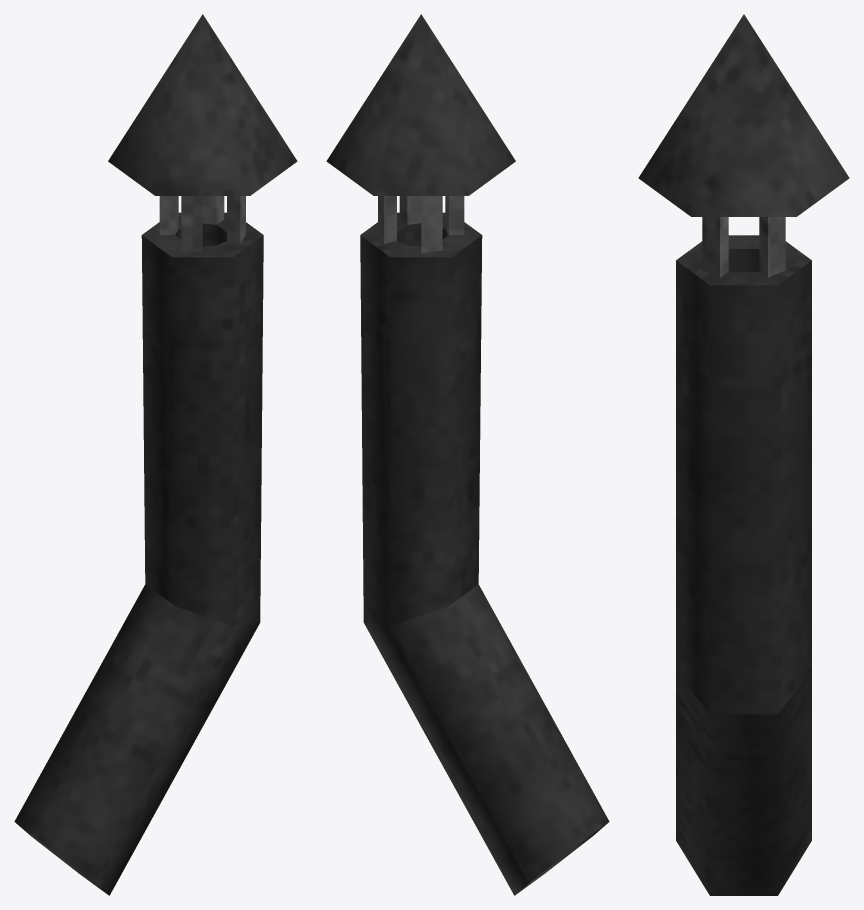
File: MS_Chimney_2.fbx
The picture shows the model from 3 angles, left to right: view 1: azimuth 30°, elevation 25°; view 2: azimuth 150°, elevation 25°; view 3: azimuth 270°, elevation 25°; orthographic projection. The views are drawn at different scales.
Parts seen in each view (by area): view 1: MSH_Chimney_02; view 2: MSH_Chimney_02; view 3: MSH_Chimney_02.
Part boxes in pixels (x1,y1,x2,y2): MSH_Chimney_02: [14, 14, 297, 895]; MSH_Chimney_02: [326, 14, 609, 895]; MSH_Chimney_02: [638, 14, 849, 895].
Bounding box in the file's own units: 34.7 × 115 × 23.34.
